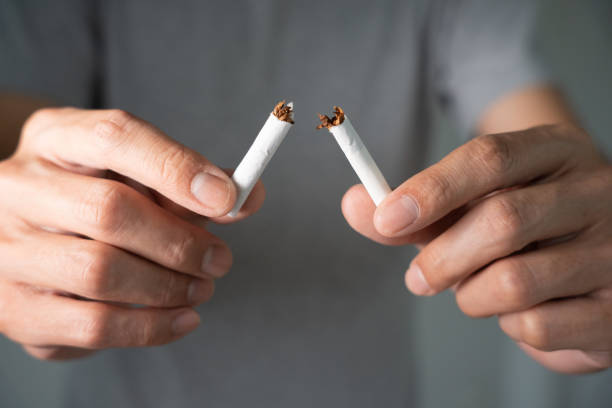cigarette: (223, 101, 295, 218), (315, 103, 394, 207)
